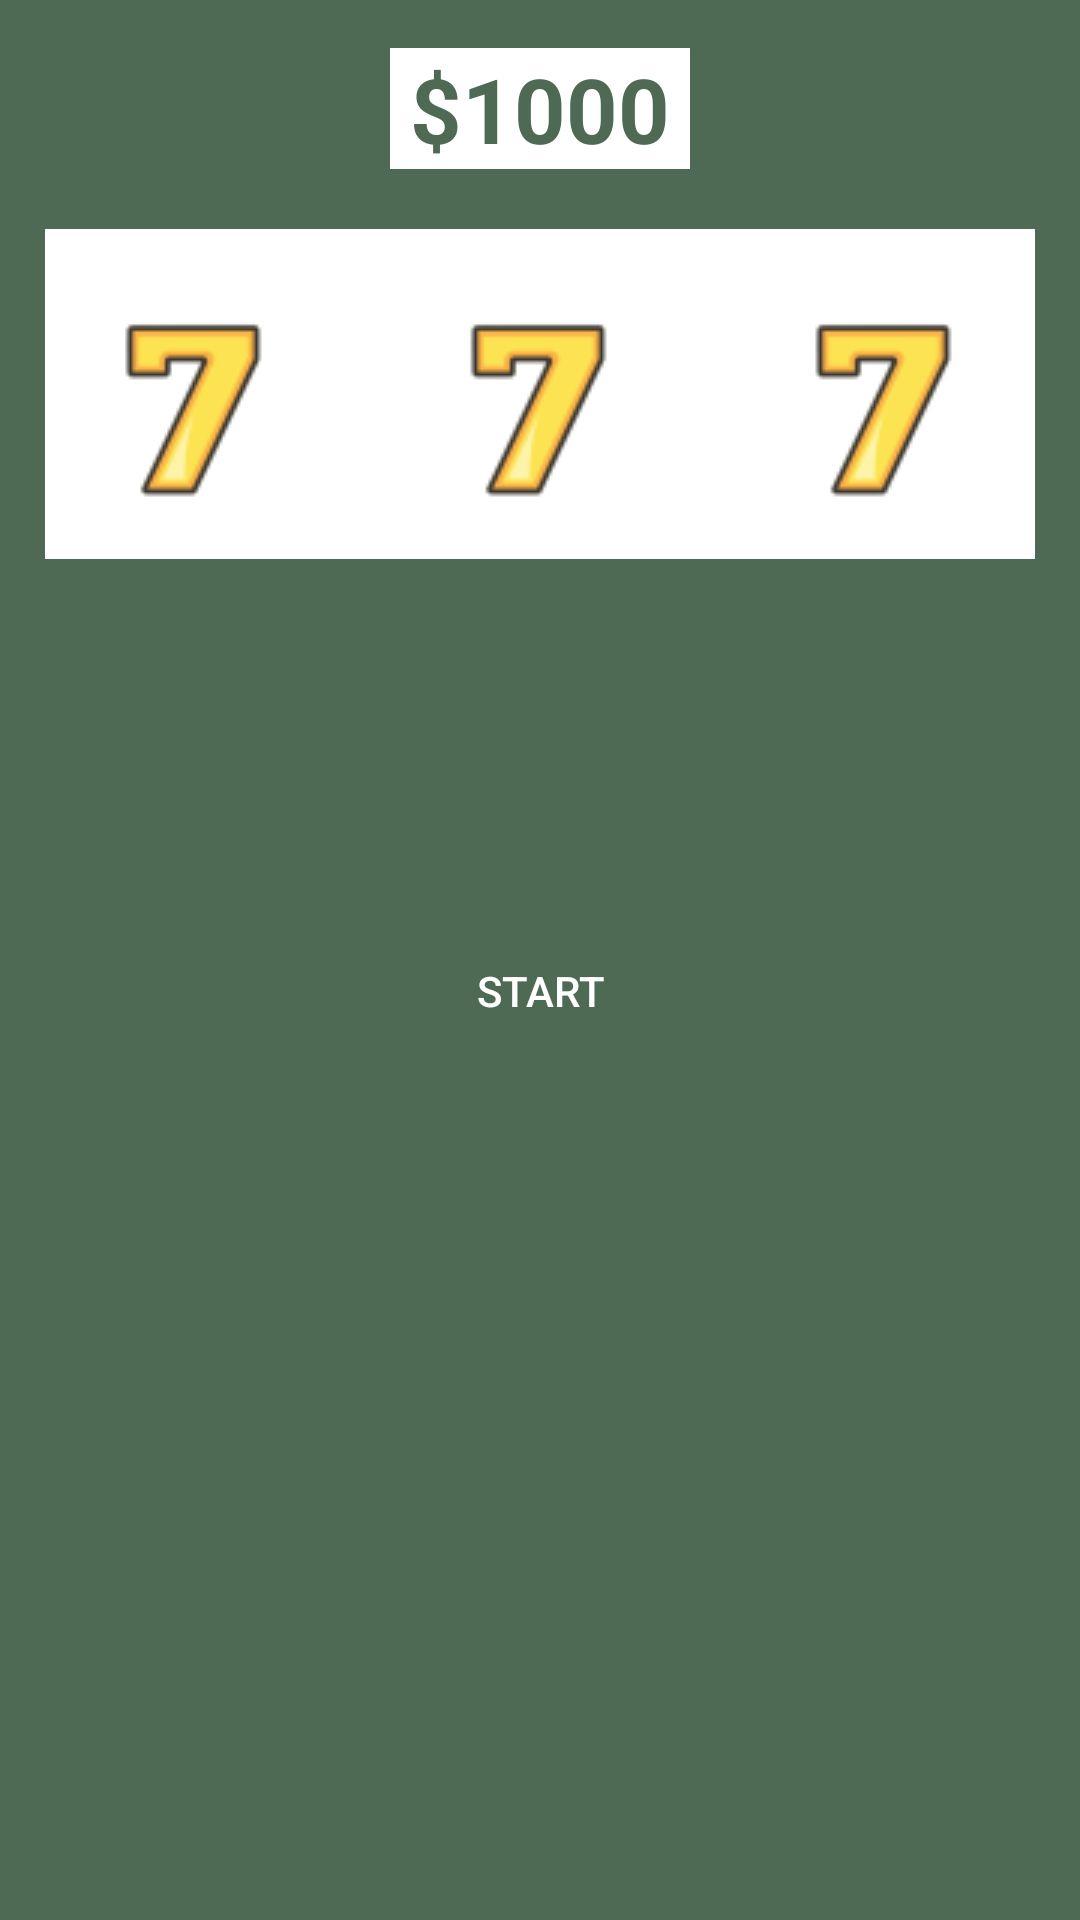

Named icons in this screenshot (1080px x 1920px) and their centers, [x,y]:
slot: [193,410], [538,410], [883,410]
